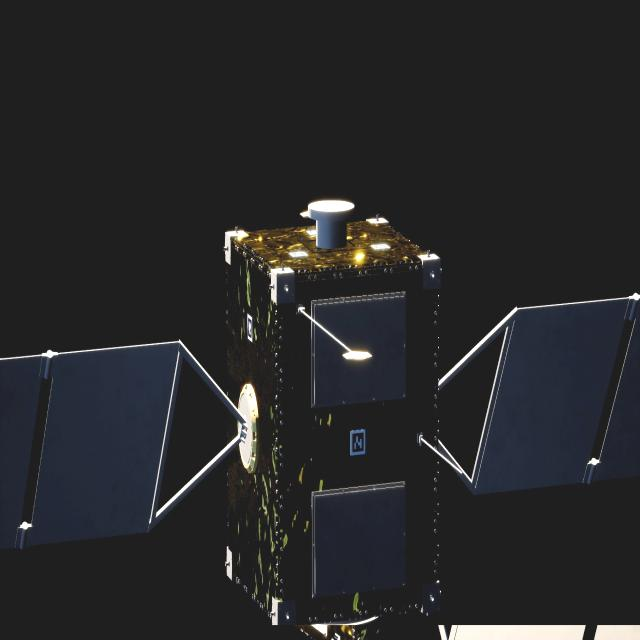medium_debris: (11, 199, 640, 640)
